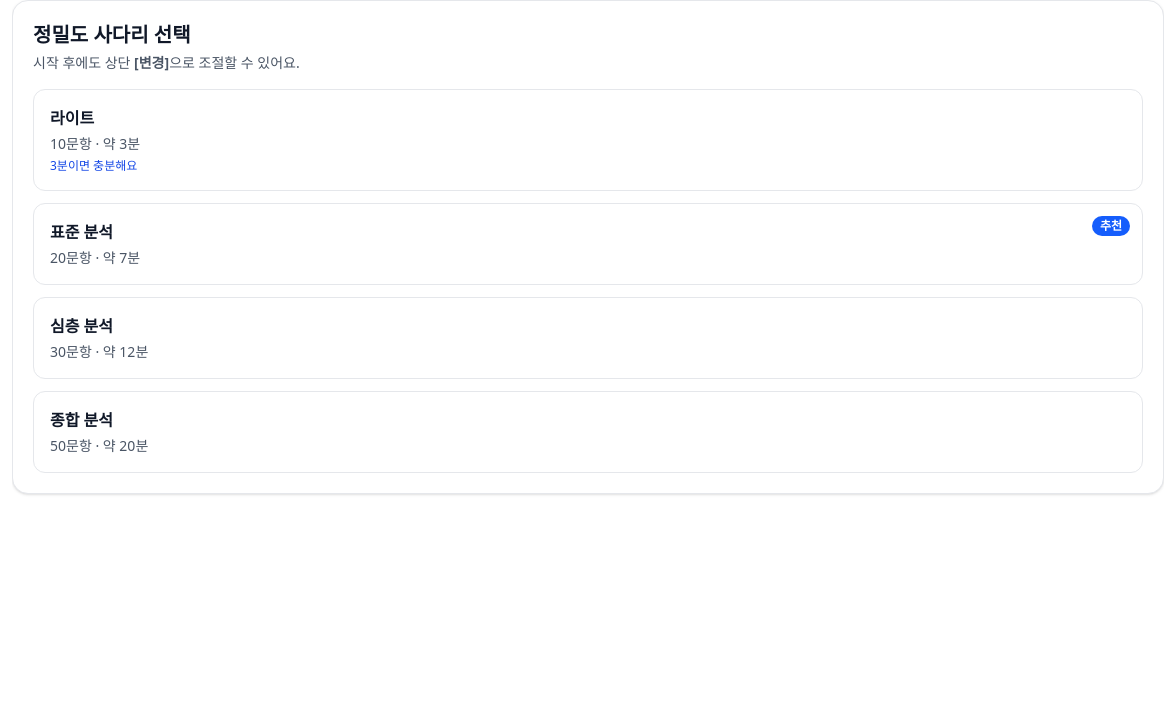
Test: DynamicOnboardingFlow › shows seed questions after selecting precision
This screenshot has width=1176, height=720.
Click the text "라이트": (72, 118) [50, 107, 94, 129]
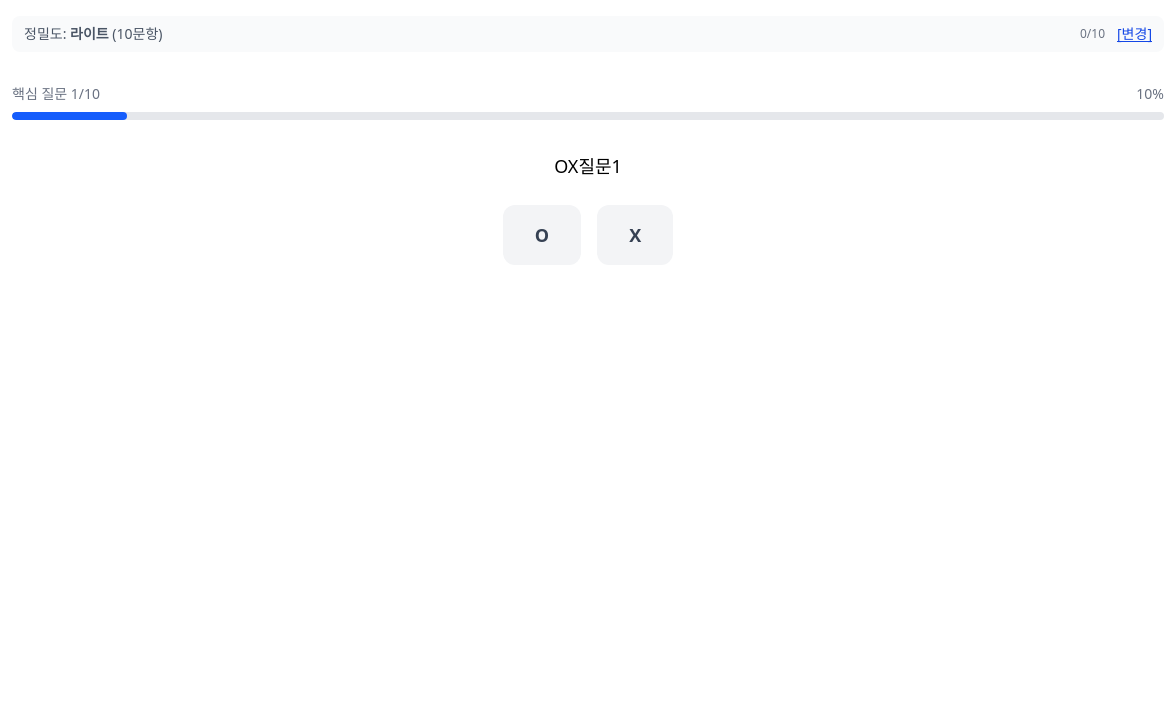
Result: the text "OX질문1" is shown at [554, 152, 622, 181]
